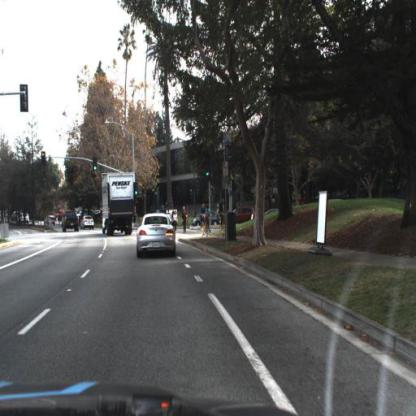biker: (219, 198, 230, 240), (201, 204, 210, 239)
car: (135, 212, 177, 261), (60, 209, 81, 235), (82, 214, 97, 230)
pedestrian: (182, 206, 190, 233), (207, 204, 212, 234), (173, 211, 178, 234)
trafficLight-Green: (91, 154, 99, 175), (134, 183, 139, 197)
truck: (102, 171, 138, 241)
